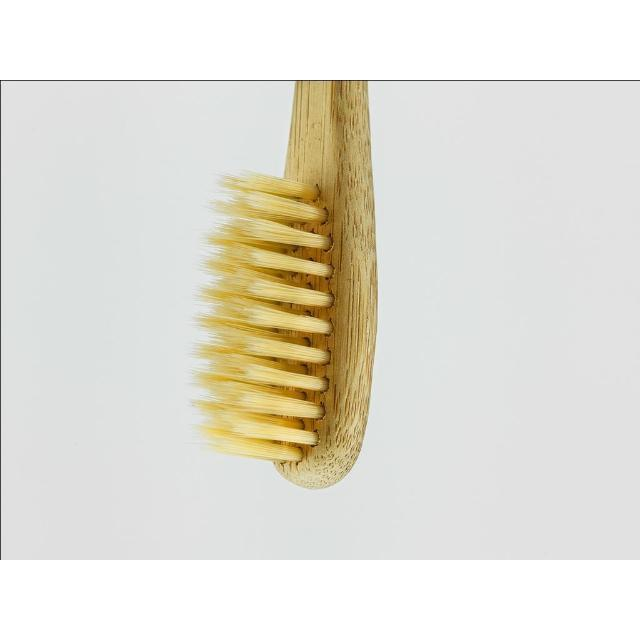toothbrush: (136, 80, 432, 476)
